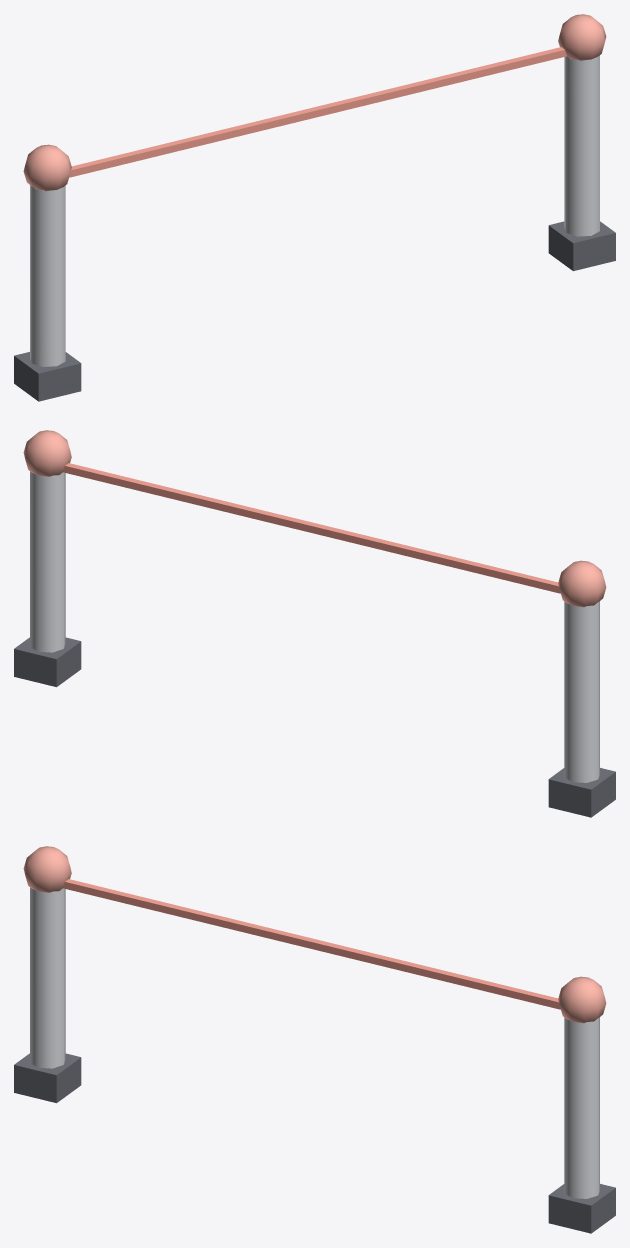
Rendered from ic_tripwire.glb.
3 renders of one model, top to bottom at view 1: azimuth 30°, elevation 25°; view 2: azimuth 150°, elevation 25°; view 3: azimuth 330°, elevation 25°, orthographic.
Visible parts, largest first — view 1: ic_tripwire; view 2: ic_tripwire; view 3: ic_tripwire.
Part boxes in pixels (box(x1,y1,x2,y2)): ic_tripwire: box(14, 14, 615, 401); ic_tripwire: box(14, 430, 615, 817); ic_tripwire: box(14, 846, 615, 1233).
Size of the model in its own units: 2.16 by 0.86 by 0.16.
